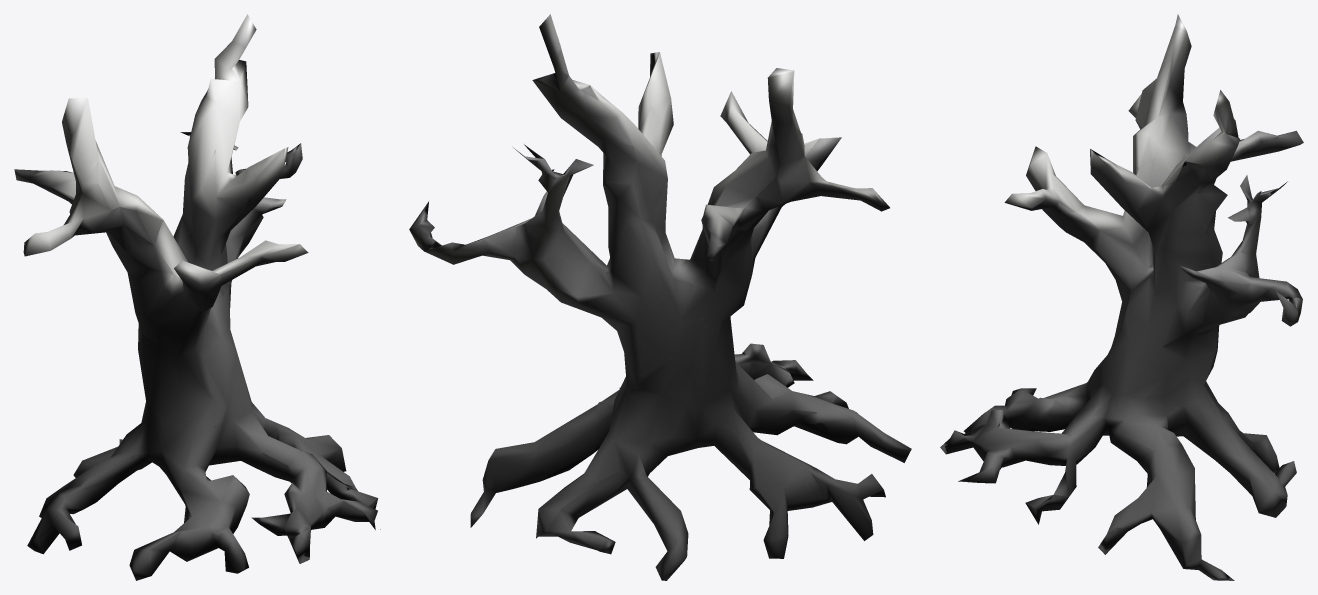
3 views of the same model, side by side, from view 1: azimuth 30°, elevation 25°; view 2: azimuth 150°, elevation 25°; view 3: azimuth 270°, elevation 25° (orthographic). The views are drawn at different scales.
Parts seen in each view (by area): view 1: Tree; view 2: Tree; view 3: Tree.
Part boxes in pixels (box(x1,y1,x2,y2)): Tree: box(14, 14, 380, 580); Tree: box(409, 14, 911, 580); Tree: box(940, 14, 1303, 580).
Bounding box in the file's own units: 154 × 199 × 142.
Materials: 1 (1 with a texture image).
